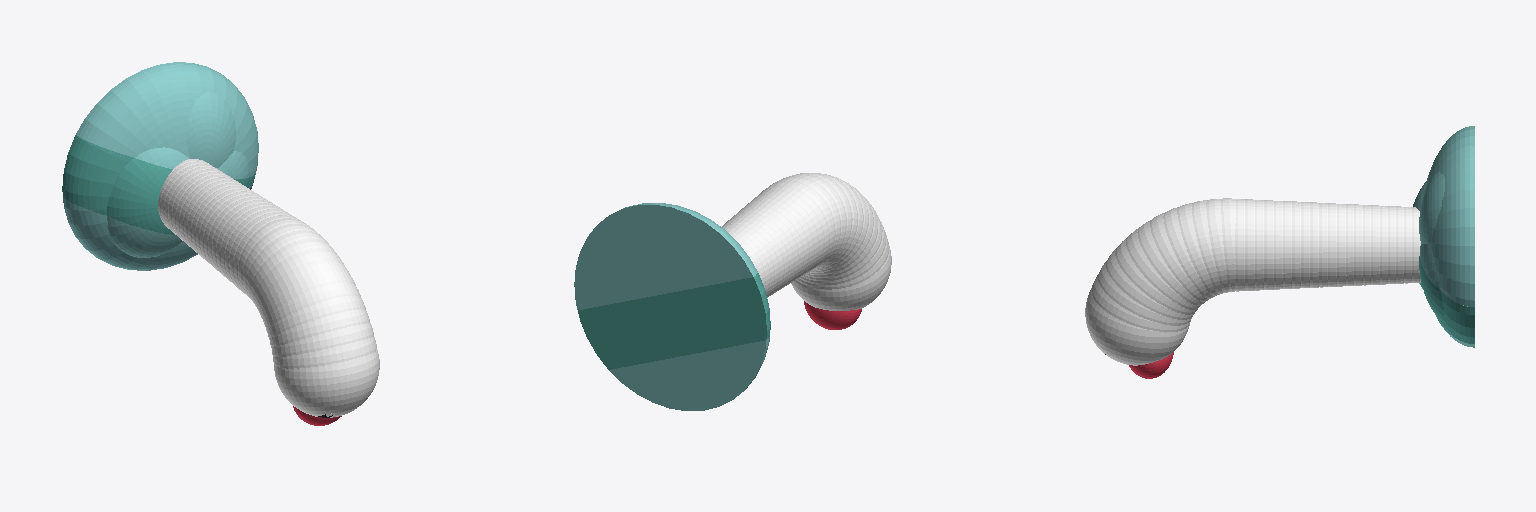
Rendered from tinker.obj.
3 renders of one model, left to right at view 1: azimuth 30°, elevation 25°; view 2: azimuth 150°, elevation 25°; view 3: azimuth 270°, elevation 25°, orthographic.
Visible parts, largest first — view 1: obj_0; view 2: obj_0; view 3: obj_0.
Boxes of the visible parts, x1=… form: obj_0: x1=62, y1=62, x2=379, y2=425; obj_0: x1=574, y1=173, x2=891, y2=410; obj_0: x1=1085, y1=126, x2=1474, y2=378.
Size of the model in its own units: 20 by 23.81 by 35.